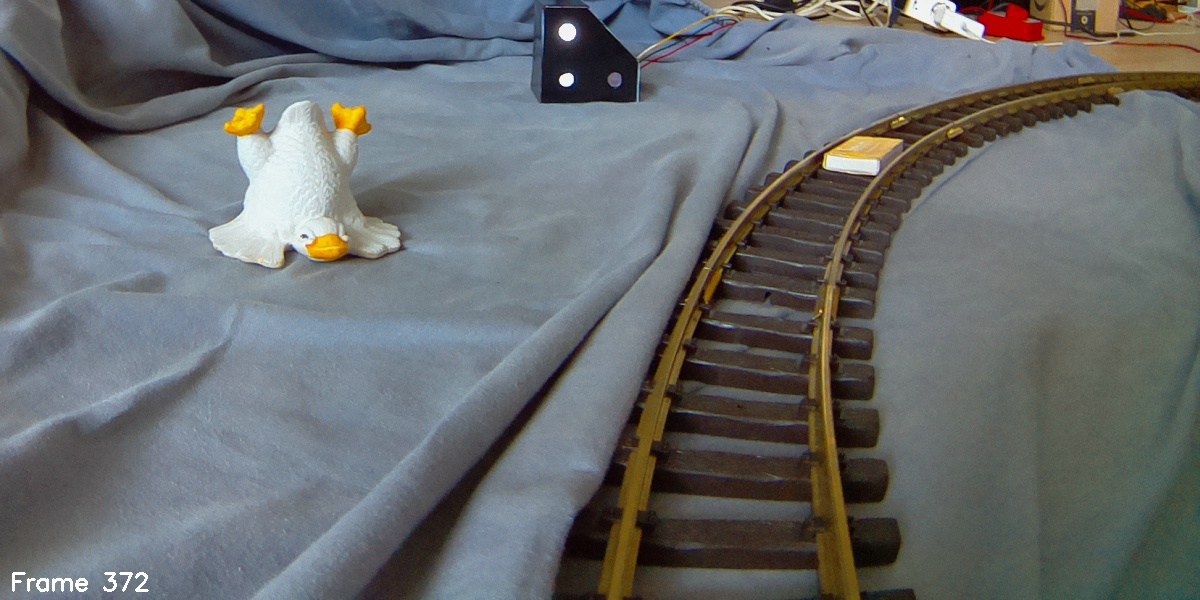Ente: (196, 110, 406, 272)
Fahrt: (531, 1, 641, 104)
